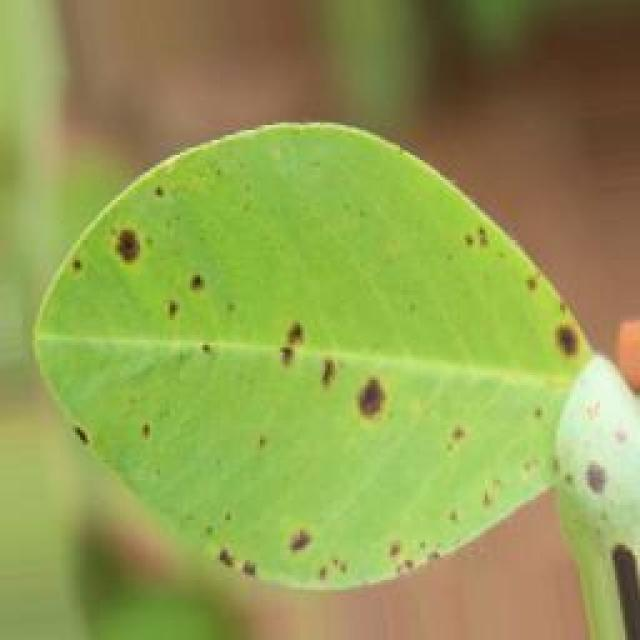Yellowish: (20, 138, 598, 558)
